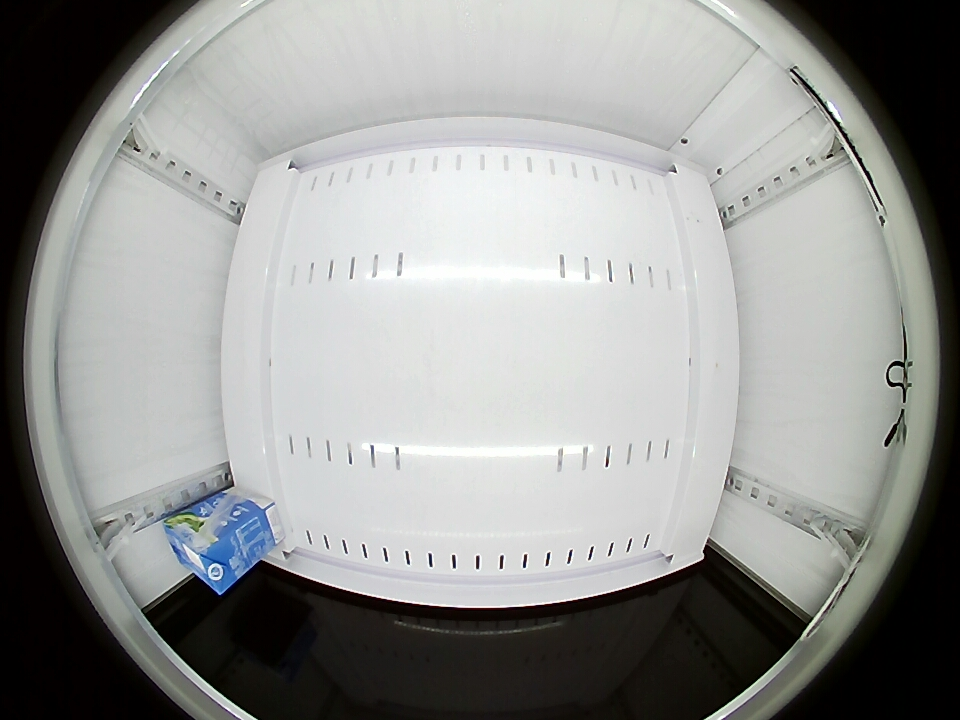weitanai: (164, 512, 247, 594)
